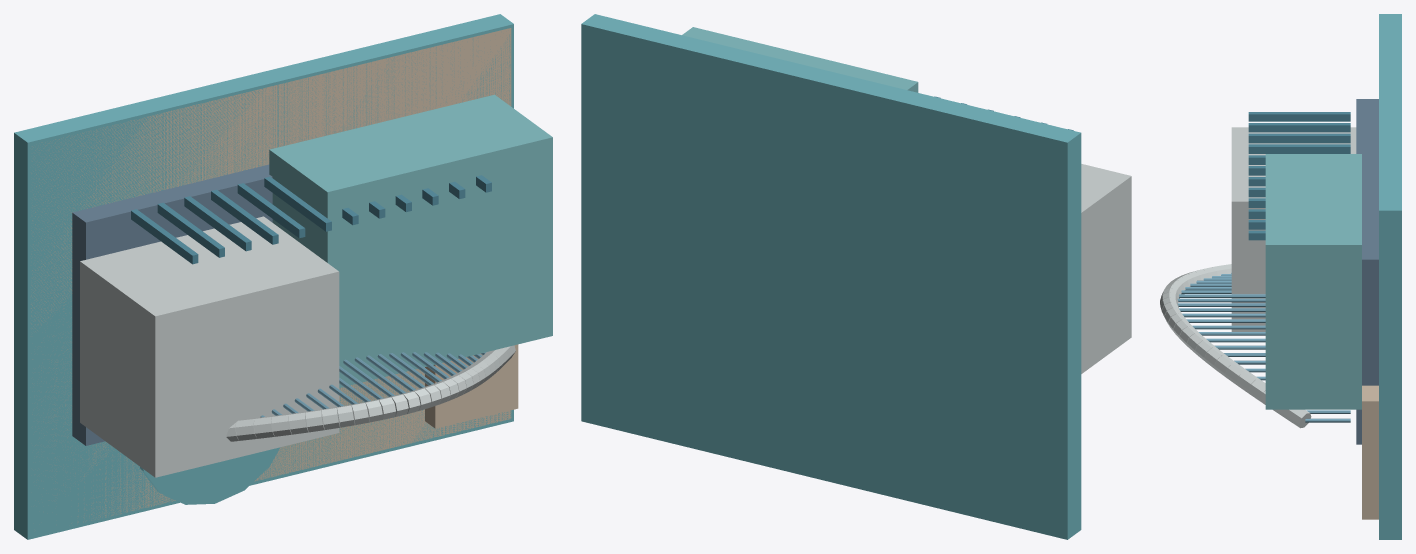
File: npm_south.glb
3 views of the same model, side by side, from view 1: azimuth 30°, elevation 25°; view 2: azimuth 150°, elevation 25°; view 3: azimuth 270°, elevation 25° (orthographic). The views are drawn at different scales.
Parts seen in each view (by area): view 1: g0, g4, g3, g1, g2, g84, g85, g76, g72, g74, g75, g77 (+1 smaller); view 2: g0, g3, g4; view 3: g4, g0, g2, g3, g85, g74, g72, g75, g73, g37, g43, g47 (+5 smaller).
Part boxes in pixels (<box>): g0: <box>14,14,513,539</box>; g4: <box>269,94,552,387</box>; g3: <box>80,216,339,477</box>; g1: <box>31,28,511,523</box>; g2: <box>72,164,272,445</box>; g84: <box>140,447,279,504</box>; g85: <box>425,344,518,428</box>; g76: <box>237,183,305,238</box>; g72: <box>131,209,198,264</box>; g74: <box>184,196,251,251</box>; g75: <box>211,189,278,244</box>; g77: <box>264,176,331,231</box>; g0: <box>581,14,1081,539</box>; g3: <box>1081,164,1131,373</box>; g4: <box>682,27,918,92</box>; g4: <box>1265,154,1361,409</box>; g0: <box>1379,14,1401,539</box>; g2: <box>1356,99,1378,444</box>; g3: <box>1231,127,1356,331</box>; g85: <box>1362,385,1378,519</box>; g74: <box>1248,133,1350,143</box>; g72: <box>1248,112,1350,121</box>; g75: <box>1248,144,1350,153</box>; g73: <box>1248,123,1350,132</box>; g37: <box>1177,298,1265,302</box>; g43: <box>1182,313,1265,317</box>; g47: <box>1192,325,1265,329</box>.
Bounding box in the file's own units: 82 × 65 × 42.57.
